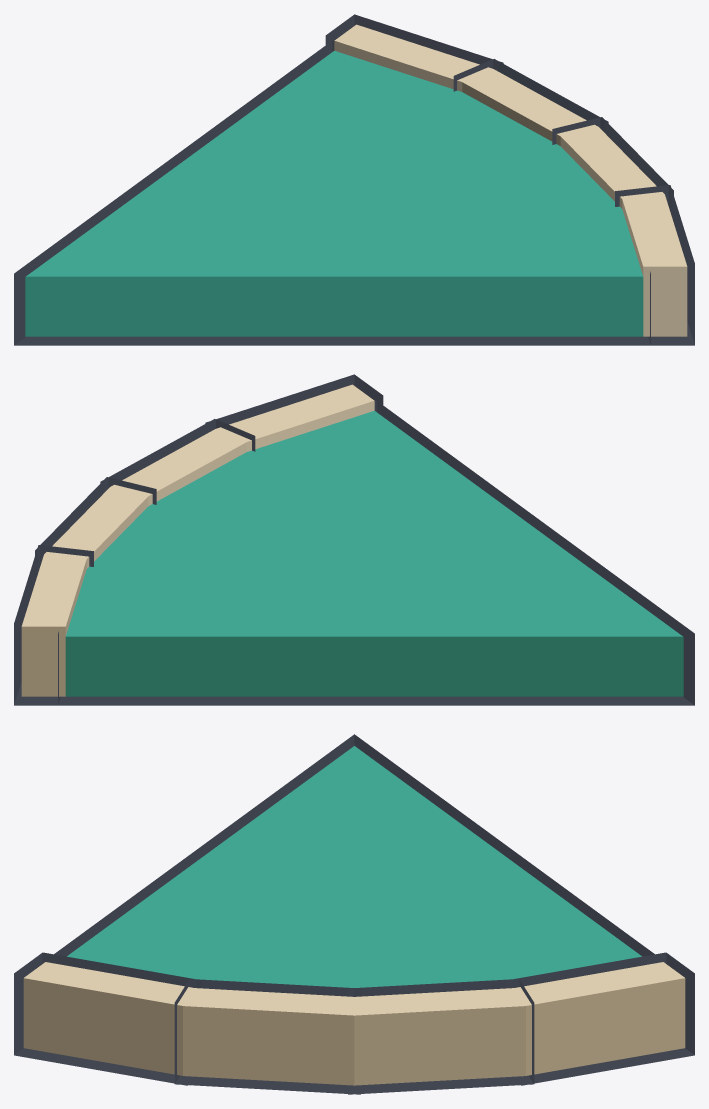
File: pie_slice_6.glb
3 views of the same model, one above another, from view 1: azimuth 30°, elevation 25°; view 2: azimuth 150°, elevation 25°; view 3: azimuth 270°, elevation 25° (orthographic).
Parts seen in each view (by area): view 1: slice, ink_outline; view 2: slice, ink_outline; view 3: slice, ink_outline.
Part boxes in pixels (bbox=[...]): slice: bbox=[25, 24, 687, 336]; ink_outline: bbox=[14, 14, 694, 345]; slice: bbox=[21, 384, 683, 696]; ink_outline: bbox=[14, 374, 694, 705]; slice: bbox=[23, 746, 685, 1085]; ink_outline: bbox=[14, 734, 694, 1094].
Size of the model in its own units: 0.0619 by 0.0082 by 0.0617.
